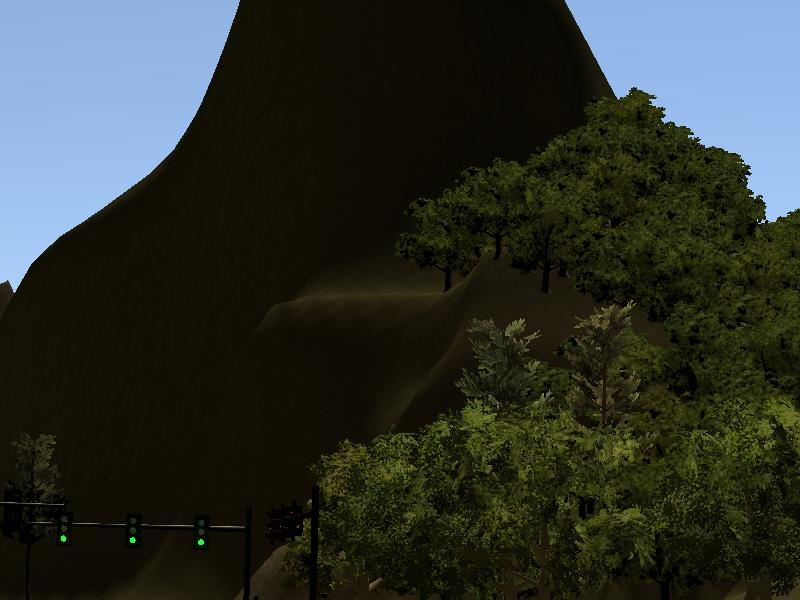green: (193, 514, 208, 554), (125, 510, 140, 550), (55, 507, 70, 547)
